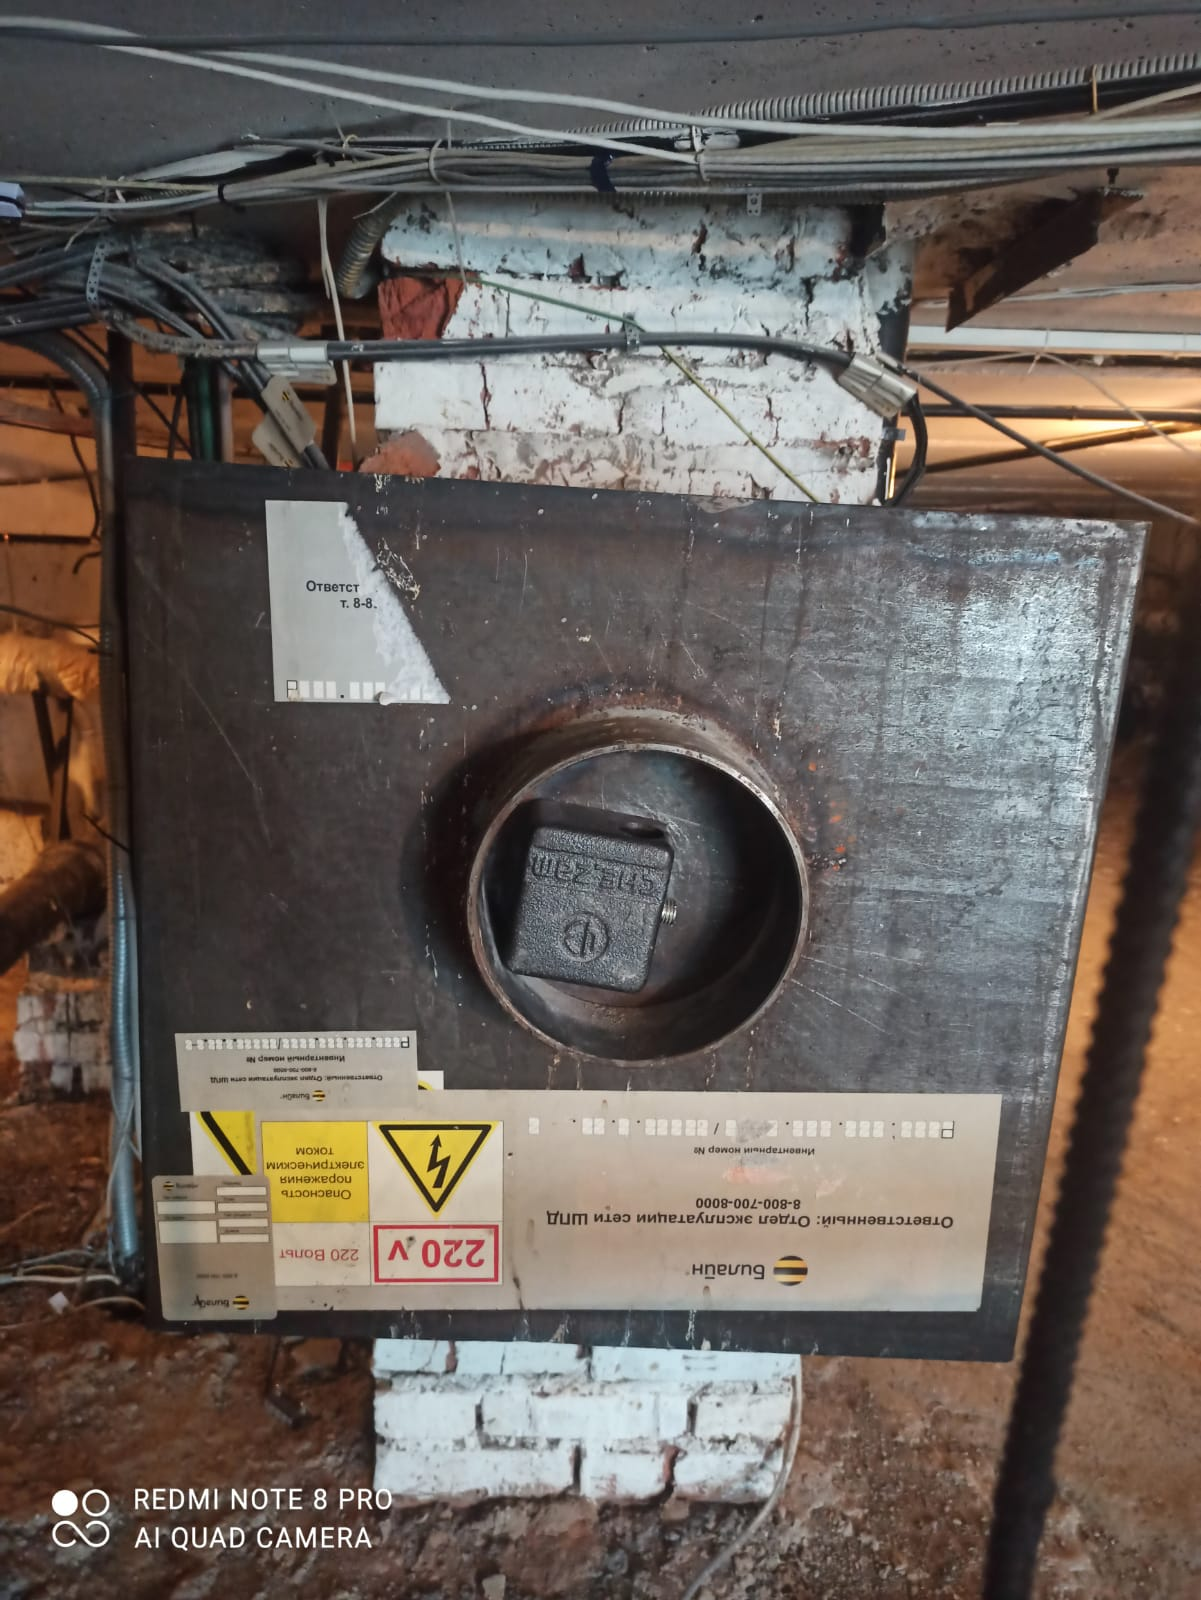shta-9: (107, 454, 1161, 1367)
